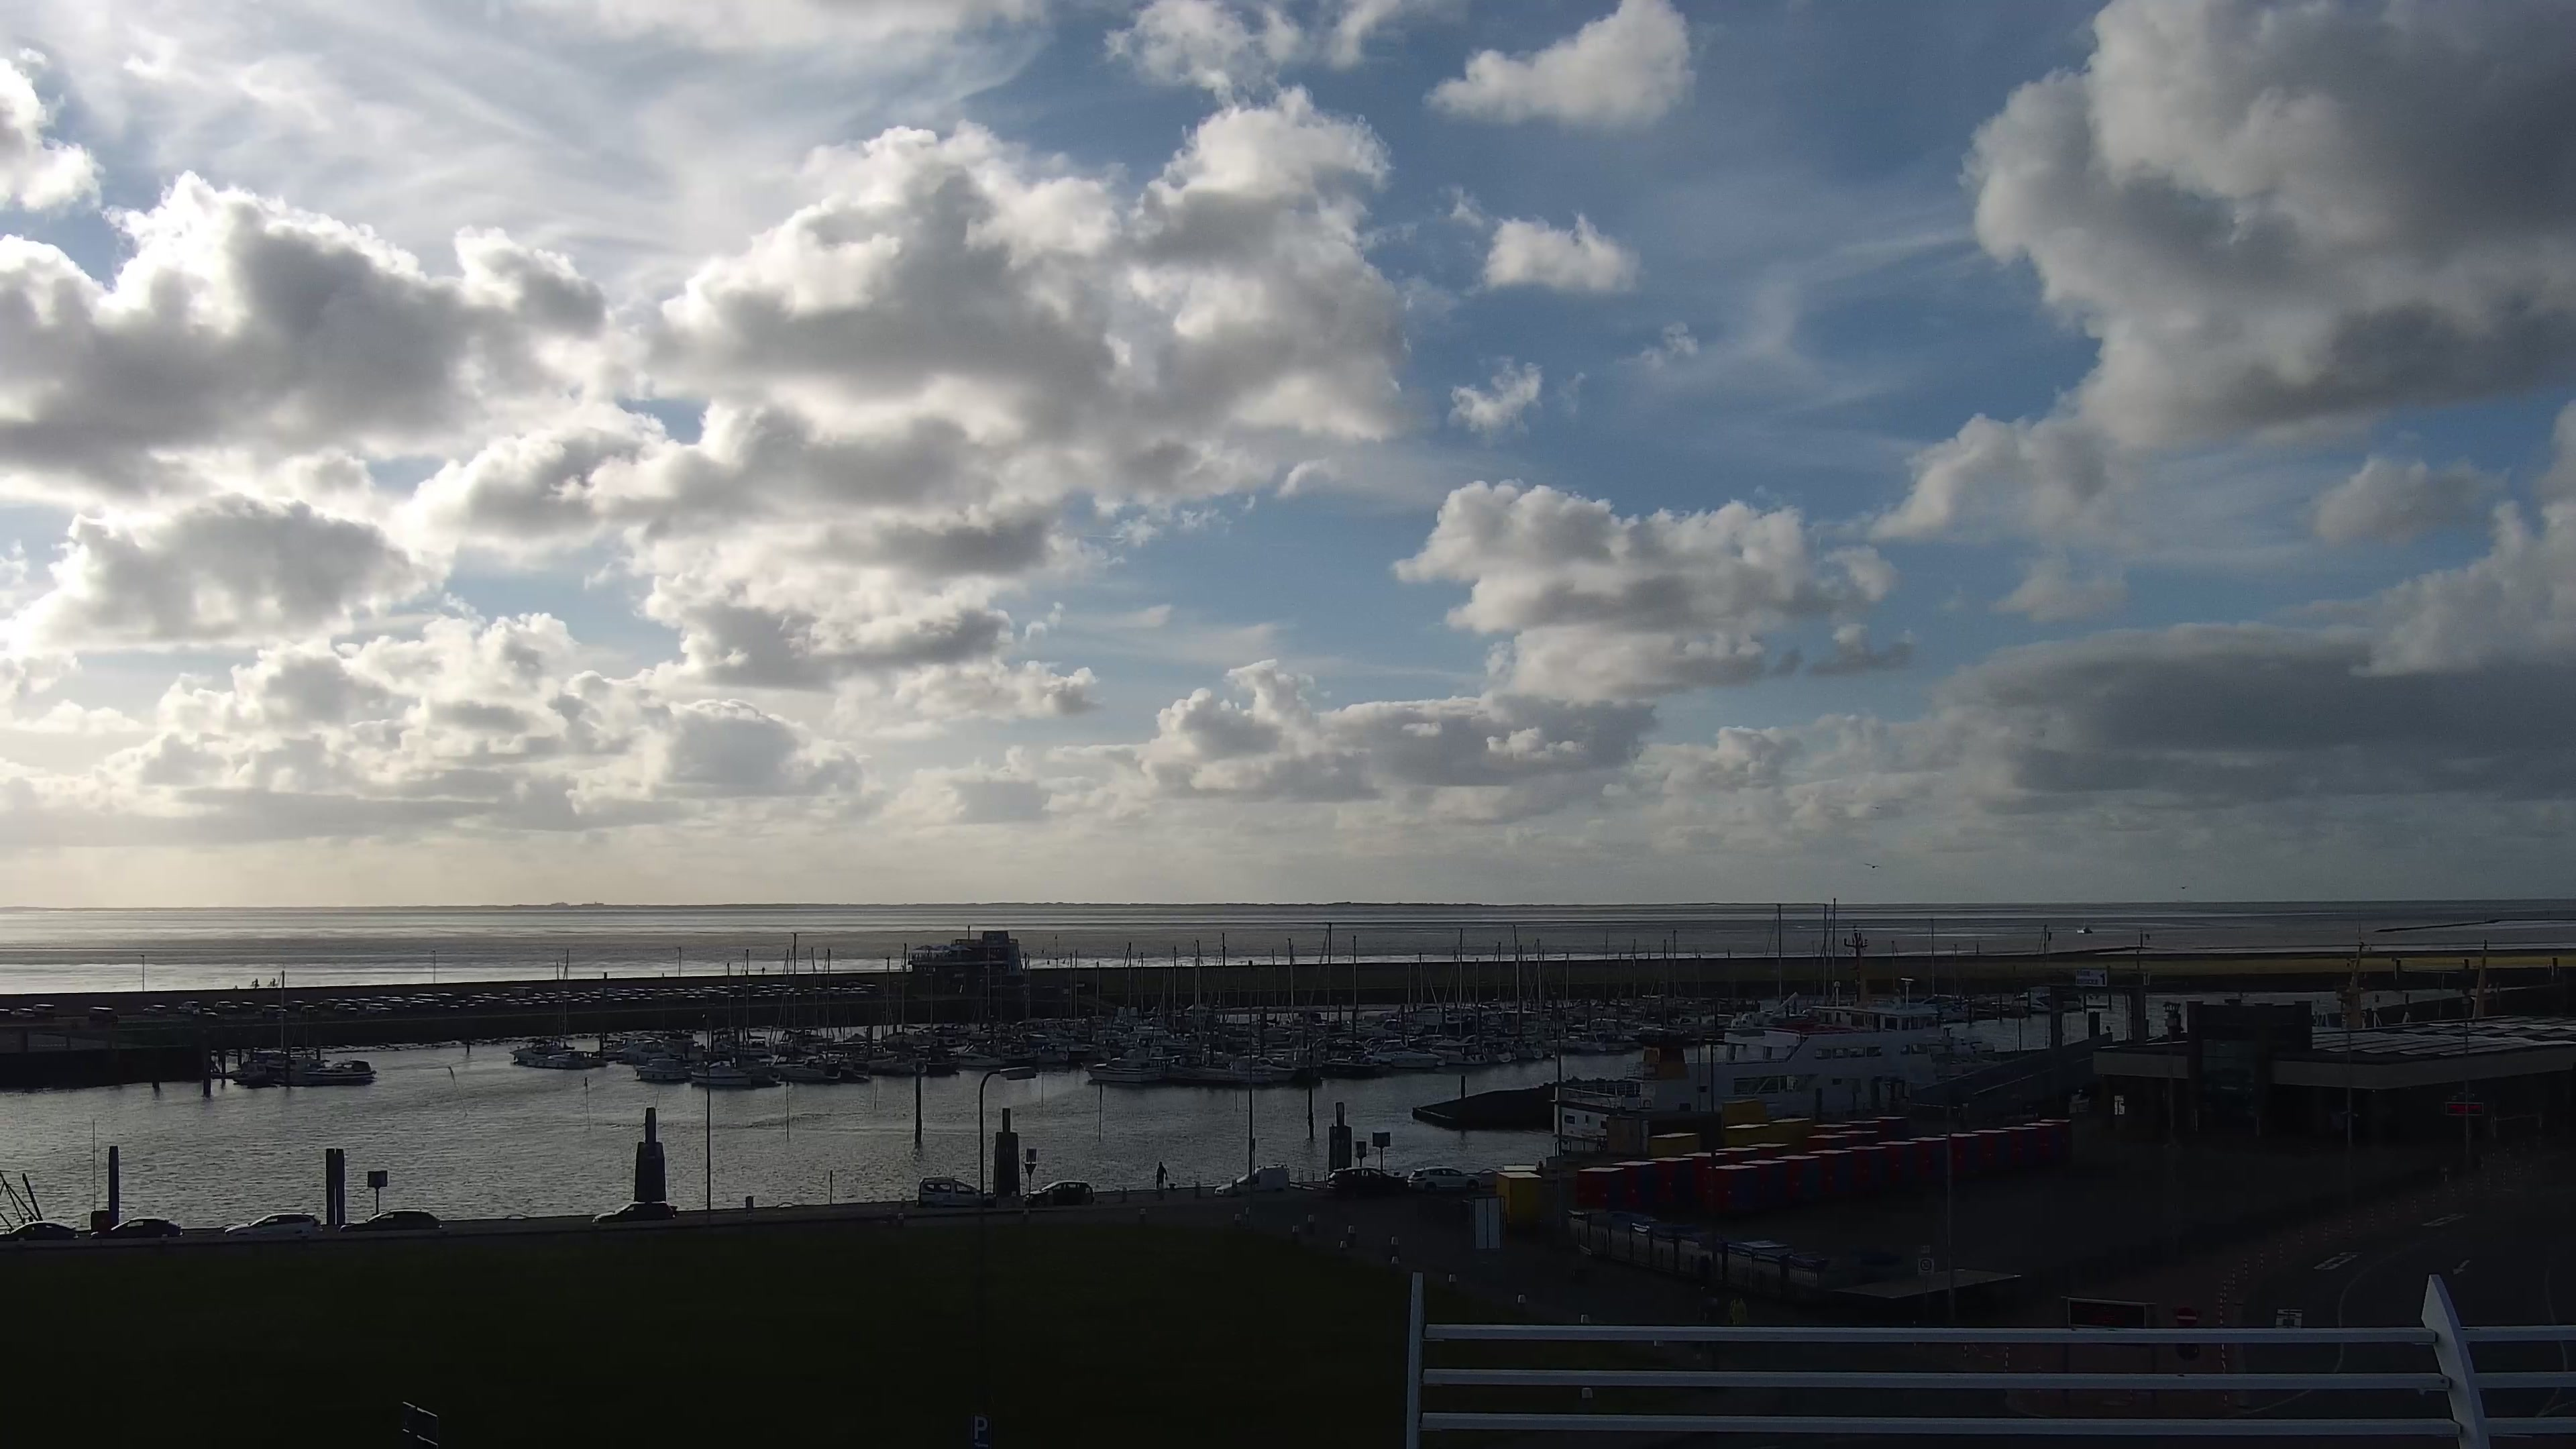human: (1155, 1160, 1168, 1190), (1736, 1297, 1748, 1327), (1728, 1297, 1738, 1327), (253, 976, 258, 986), (271, 976, 276, 985), (761, 965, 765, 975), (1727, 948, 1731, 958)
land: (917, 1176, 998, 1208), (1326, 1167, 1408, 1197), (223, 1212, 323, 1237), (337, 1208, 443, 1231), (1213, 1163, 1291, 1194), (1407, 1167, 1483, 1193), (89, 1217, 183, 1238), (590, 1199, 677, 1223), (1022, 1179, 1095, 1205), (1, 1219, 78, 1240), (88, 1006, 118, 1022), (260, 1004, 287, 1020), (191, 1006, 218, 1018), (30, 1003, 54, 1017), (214, 999, 239, 1013), (366, 1003, 392, 1016), (176, 1000, 199, 1014), (334, 1002, 358, 1016), (9, 1008, 34, 1019), (142, 1004, 167, 1016), (237, 1001, 256, 1014), (299, 1005, 319, 1017), (319, 997, 339, 1008), (406, 996, 425, 1008), (413, 991, 429, 1004), (376, 995, 391, 1005), (389, 996, 406, 1006), (288, 1000, 305, 1009), (355, 998, 370, 1007), (266, 981, 278, 989), (248, 981, 260, 989), (343, 998, 356, 1006)
sea: (1551, 924, 1994, 1155), (508, 949, 581, 1060), (231, 970, 303, 1073), (2008, 922, 2081, 1010), (272, 997, 321, 1065), (1371, 1038, 1441, 1068), (1228, 1055, 1299, 1081), (302, 1059, 376, 1083), (771, 1052, 840, 1080), (1083, 1056, 1152, 1082), (690, 1059, 751, 1086), (1426, 1038, 1487, 1065), (616, 1038, 670, 1065), (954, 1038, 1005, 1067), (863, 1053, 927, 1075), (545, 1049, 608, 1068), (1548, 1029, 1606, 1051), (635, 1057, 689, 1079), (718, 1035, 767, 1057), (1511, 1033, 1546, 1063), (1319, 1057, 1379, 1073), (999, 1042, 1042, 1063), (1480, 1040, 1511, 1063), (2076, 916, 2093, 934)
